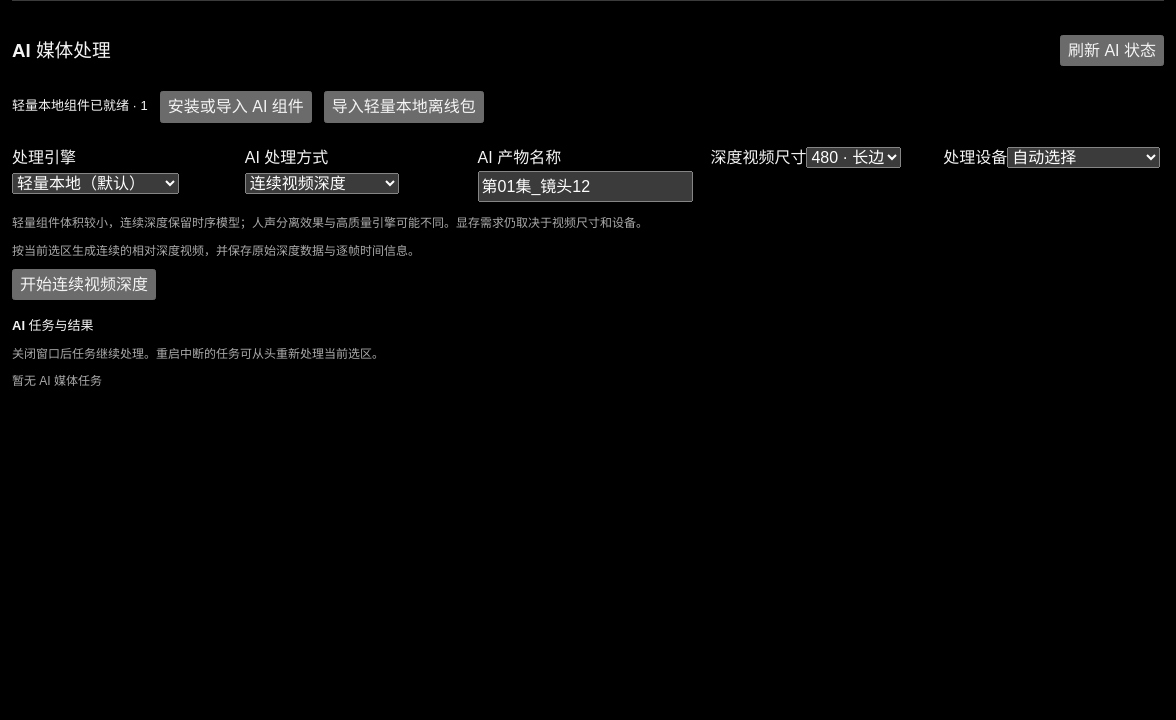
Test: AiMediaPanel › checks the selected engine and FFmpeg dependency before starting
Click the button "开始连续视频深度" at (84, 284), box [12,269,156,300]
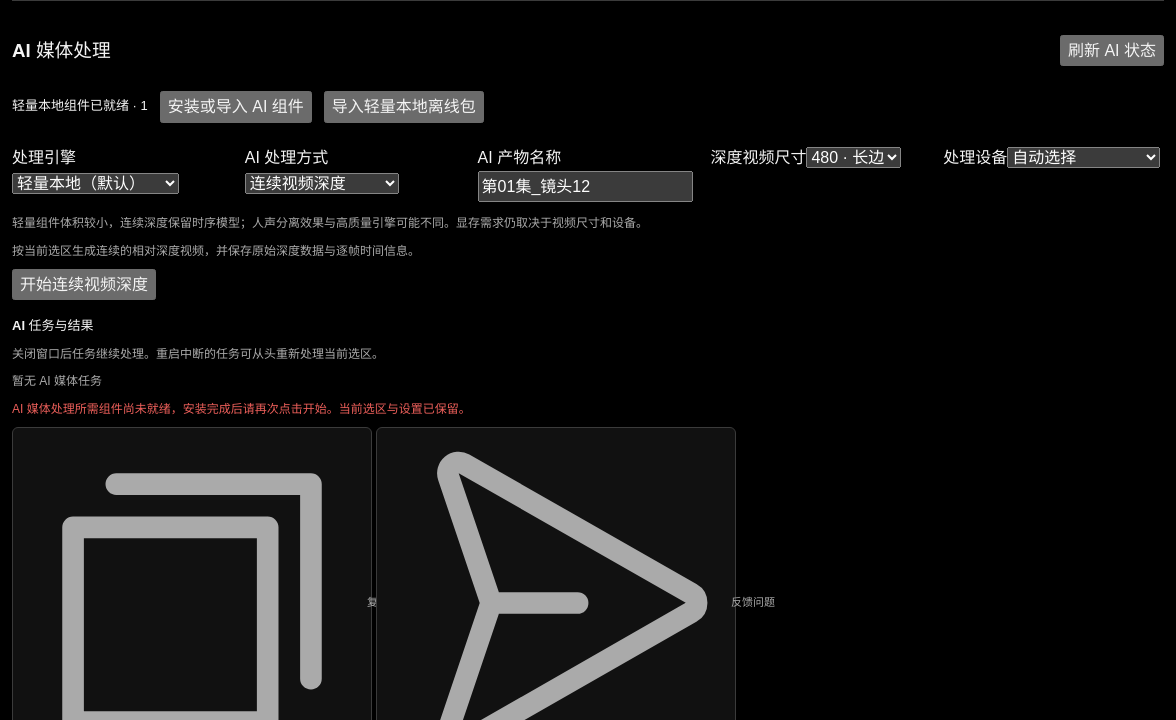
Expected: the text "AI 媒体处理所需组件尚未就绪，安装完成后请再次点击开始。当前选区与设置已保留。" is shown, [12,402,471,416]
